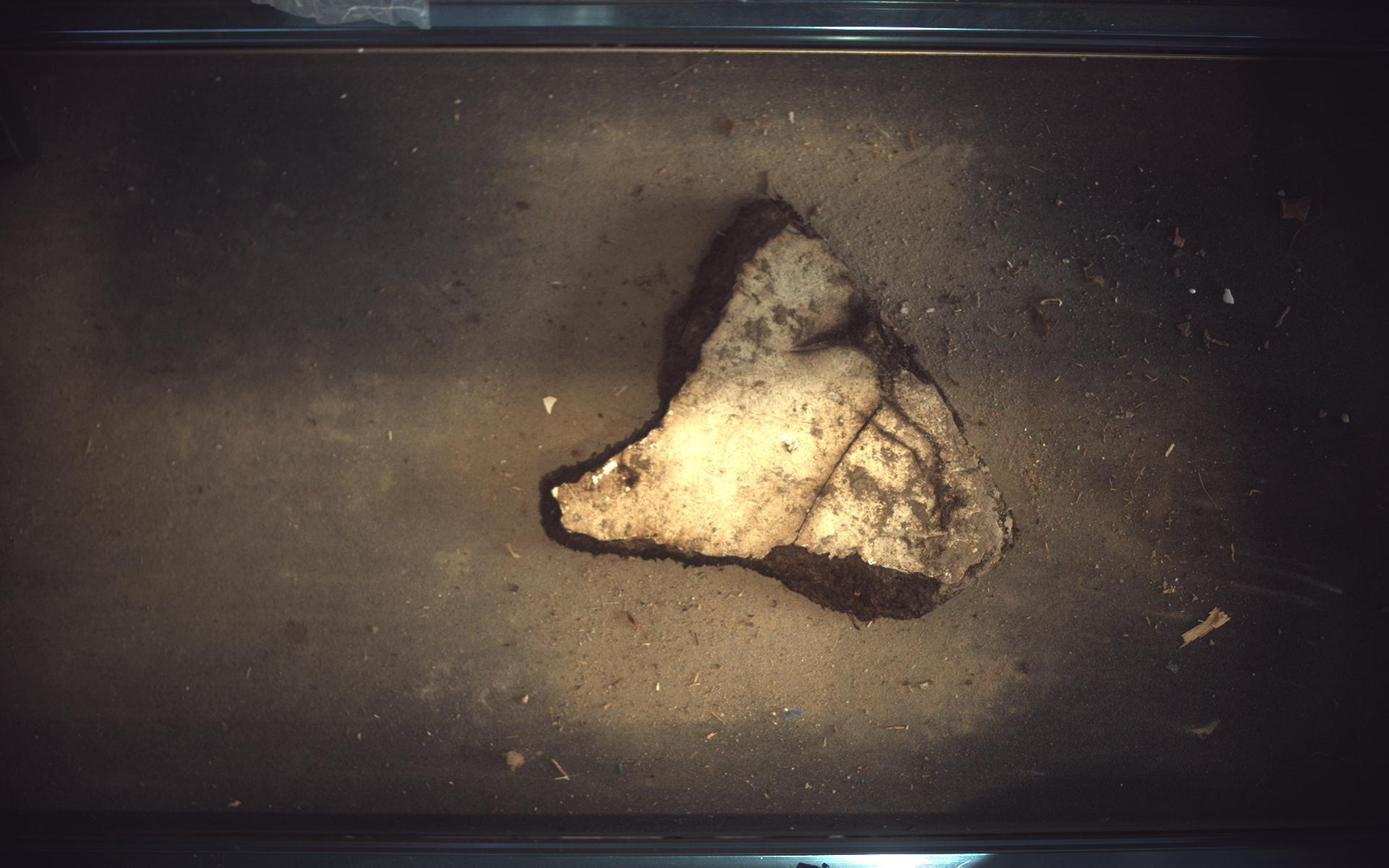wood: (545, 199, 1014, 621)
